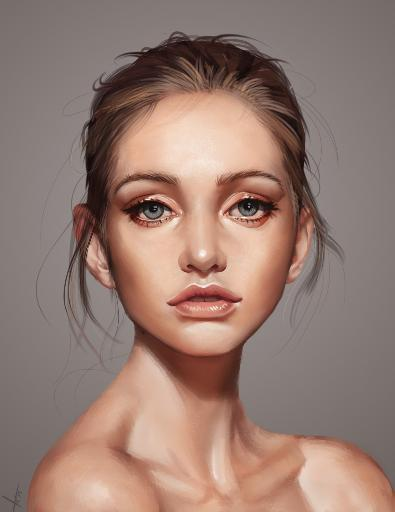left_eye: (225, 196, 276, 224)
left_lip_corner: (236, 294, 247, 308)
right_eye: (127, 198, 177, 227)
right_lip_corner: (166, 299, 177, 314)
